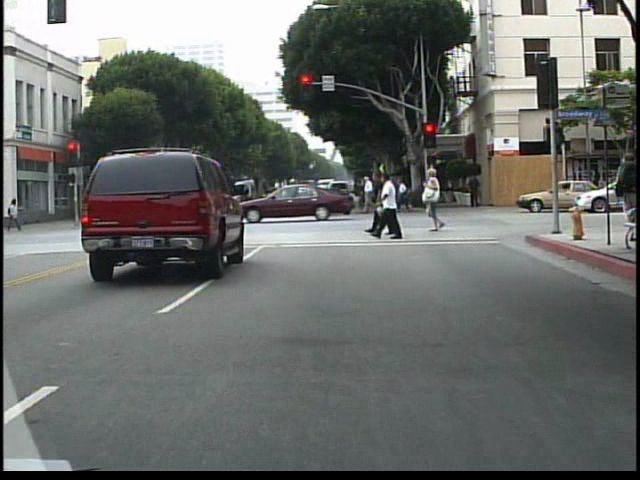person: (374, 173, 411, 244), (423, 170, 456, 235), (370, 173, 391, 238), (361, 172, 382, 219), (283, 175, 301, 220), (468, 168, 487, 210), (146, 187, 162, 232), (125, 190, 141, 231), (348, 178, 367, 212), (396, 175, 413, 213), (7, 197, 23, 232), (2, 200, 16, 235)
